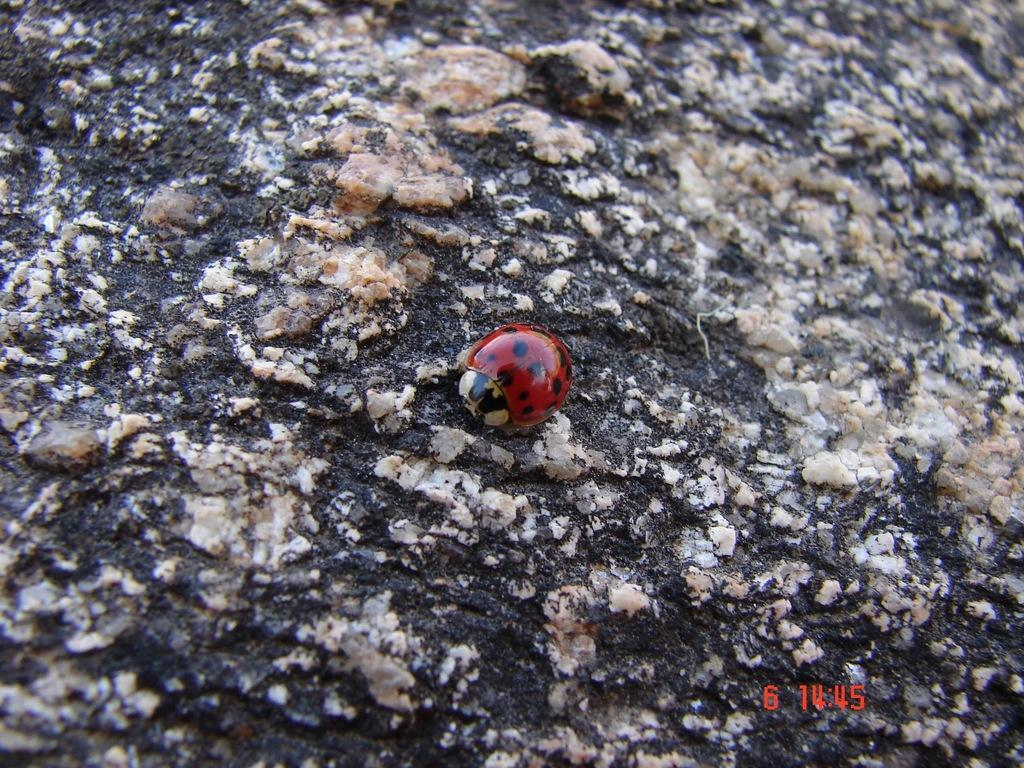ladybug: (457, 321, 574, 431)
